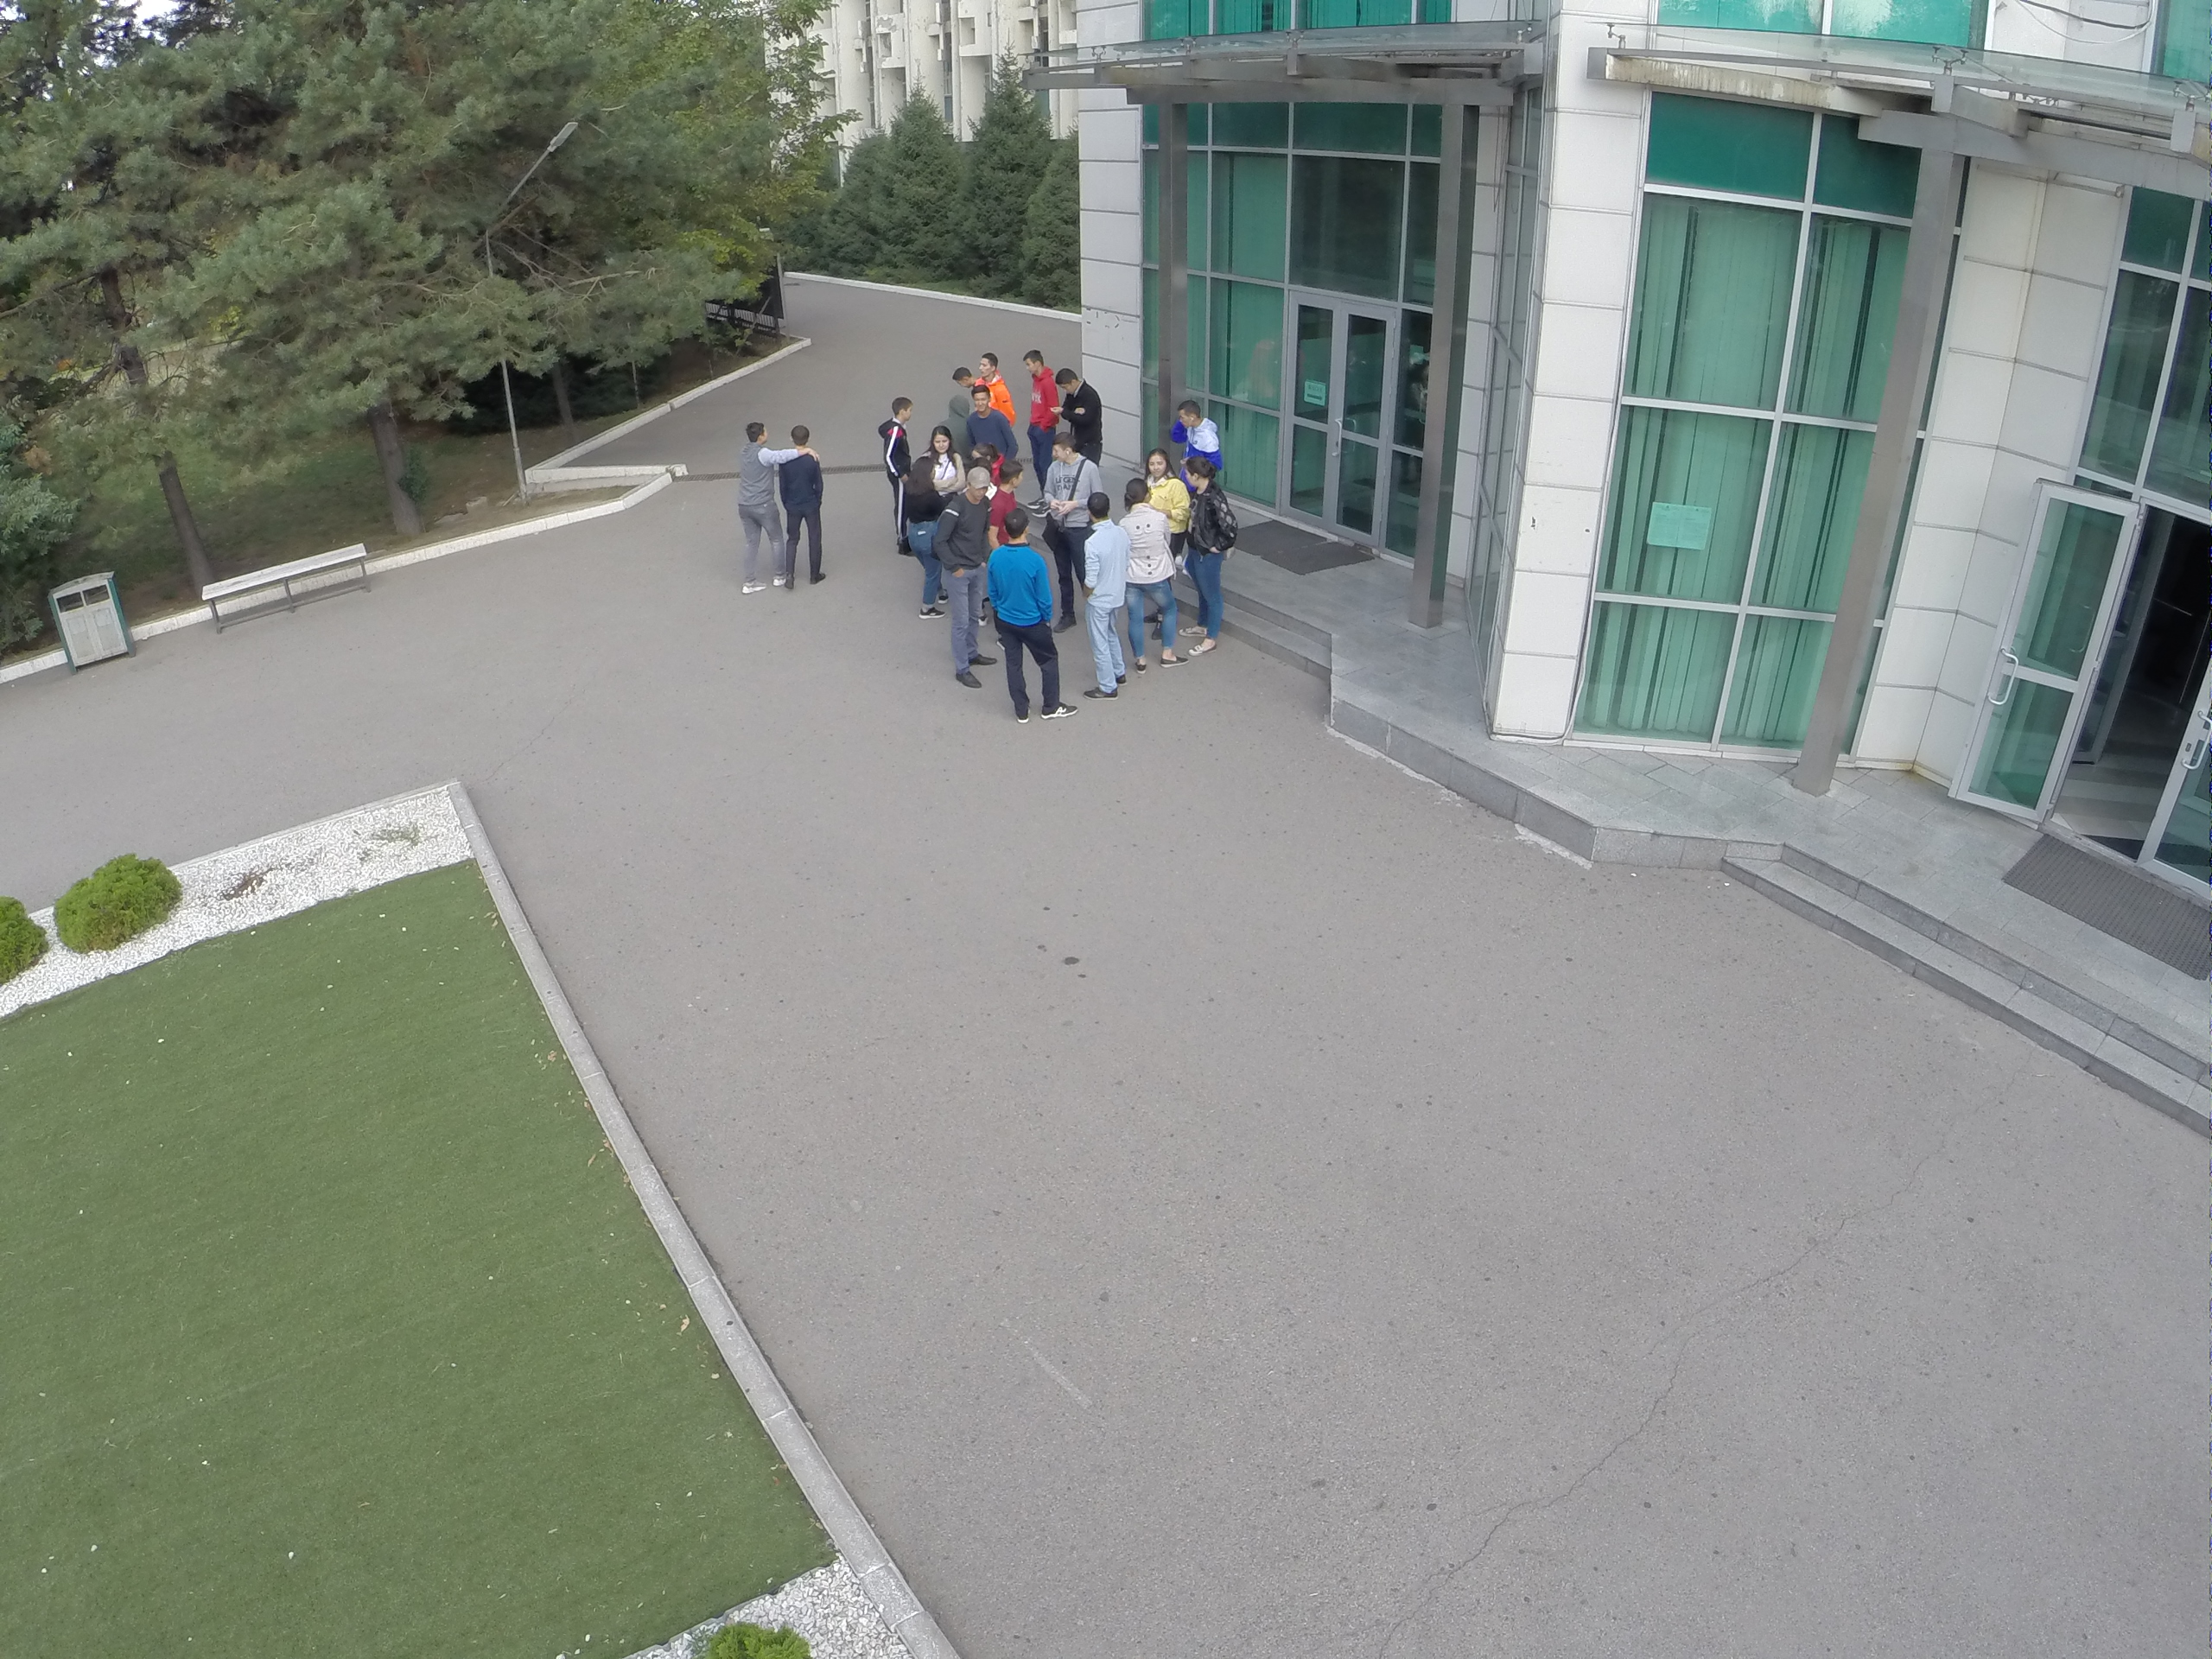person: (985, 507, 1075, 724), (941, 466, 998, 694), (1123, 479, 1185, 675), (1080, 493, 1132, 702), (1178, 456, 1232, 658), (1046, 433, 1098, 632), (728, 420, 788, 594), (899, 455, 950, 622), (784, 429, 825, 589), (883, 396, 923, 557), (1147, 448, 1193, 544), (958, 385, 1017, 455), (1027, 346, 1052, 493), (1054, 359, 1104, 432), (1168, 397, 1224, 462), (923, 429, 964, 485)
